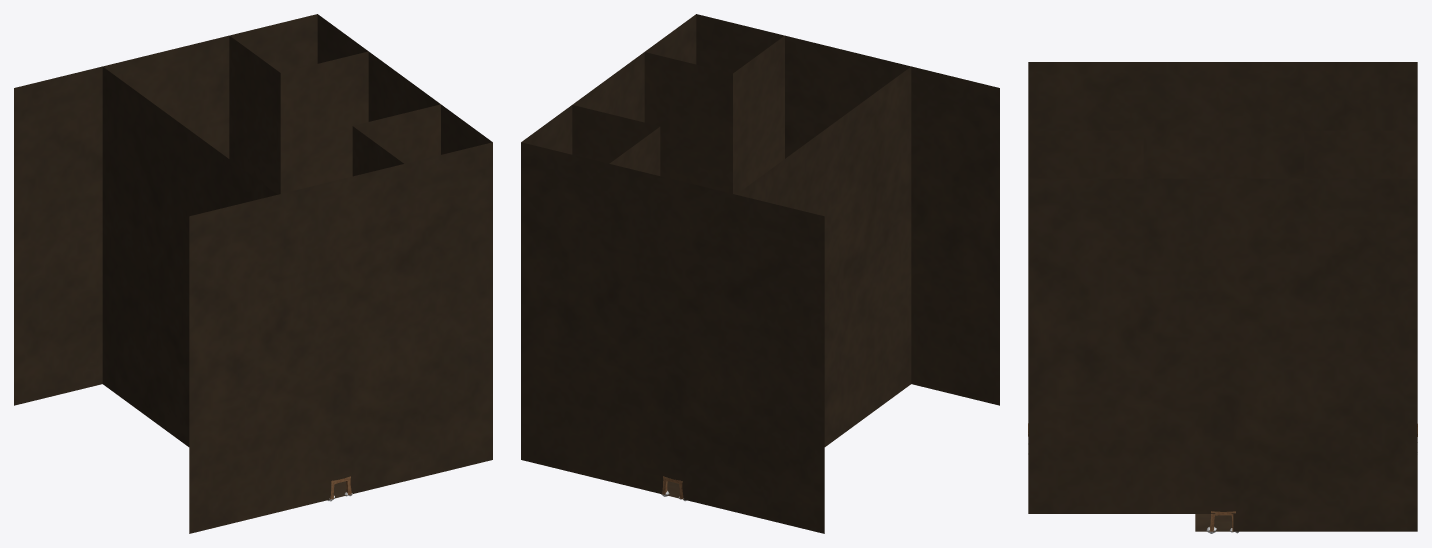
Rendered from Room002.fbx.
3 renders of one model, left to right at view 1: azimuth 30°, elevation 25°; view 2: azimuth 150°, elevation 25°; view 3: azimuth 270°, elevation 25°, orthographic. The views are drawn at different scales.
Parts seen in each view (by area): view 1: 4ParedN, 2ParedS, 3ParedSinPuertaE, 1ParedSinPuertaW.003, 1ParedW, 1ParedSinPuertaW.001, 4Pared.001N, 4Pared.002N, 2Pared.001S; view 2: 2ParedS, 4ParedN, 3ParedSinPuertaE, 1ParedSinPuertaW.001, 1ParedW, 1ParedSinPuertaW.003, 2Pared.001S, 2Pared.002S, 4Pared.001N; view 3: 1ParedW, 3ParedSinPuertaE, 1ParedSinPuertaW.001, 1ParedSinPuertaW.003, 1Pared.001W, 1Suelo.007.
Part boxes in pixels (<box>): 4ParedN: <box>189,142,492,517</box>; 2ParedS: <box>14,14,317,389</box>; 3ParedSinPuertaE: <box>102,67,277,446</box>; 1ParedSinPuertaW.003: <box>229,35,368,194</box>; 1ParedW: <box>317,14,492,154</box>; 1ParedSinPuertaW.001: <box>352,104,440,176</box>; 4Pared.001N: <box>189,483,331,533</box>; 4Pared.002N: <box>350,444,492,494</box>; 2Pared.001S: <box>14,368,102,405</box>; 2ParedS: <box>521,142,824,517</box>; 4ParedN: <box>696,14,999,389</box>; 3ParedSinPuertaE: <box>736,67,911,446</box>; 1ParedSinPuertaW.001: <box>644,36,784,194</box>; 1ParedW: <box>521,14,696,154</box>; 1ParedSinPuertaW.003: <box>572,105,660,175</box>; 2Pared.001S: <box>681,483,824,533</box>; 2Pared.002S: <box>521,444,663,494</box>; 4Pared.001N: <box>911,368,999,405</box>; 1ParedW: <box>1028,178,1417,513</box>; 3ParedSinPuertaE: <box>1028,62,1417,178</box>; 1ParedSinPuertaW.001: <box>1028,130,1143,178</box>; 1ParedSinPuertaW.003: <box>1304,130,1417,178</box>; 1Pared.001W: <box>1233,514,1417,531</box>; 1Suelo.007: <box>1195,514,1232,531</box>.
Bounding box in the file's own units: 9600 × 10200 × 9608.
